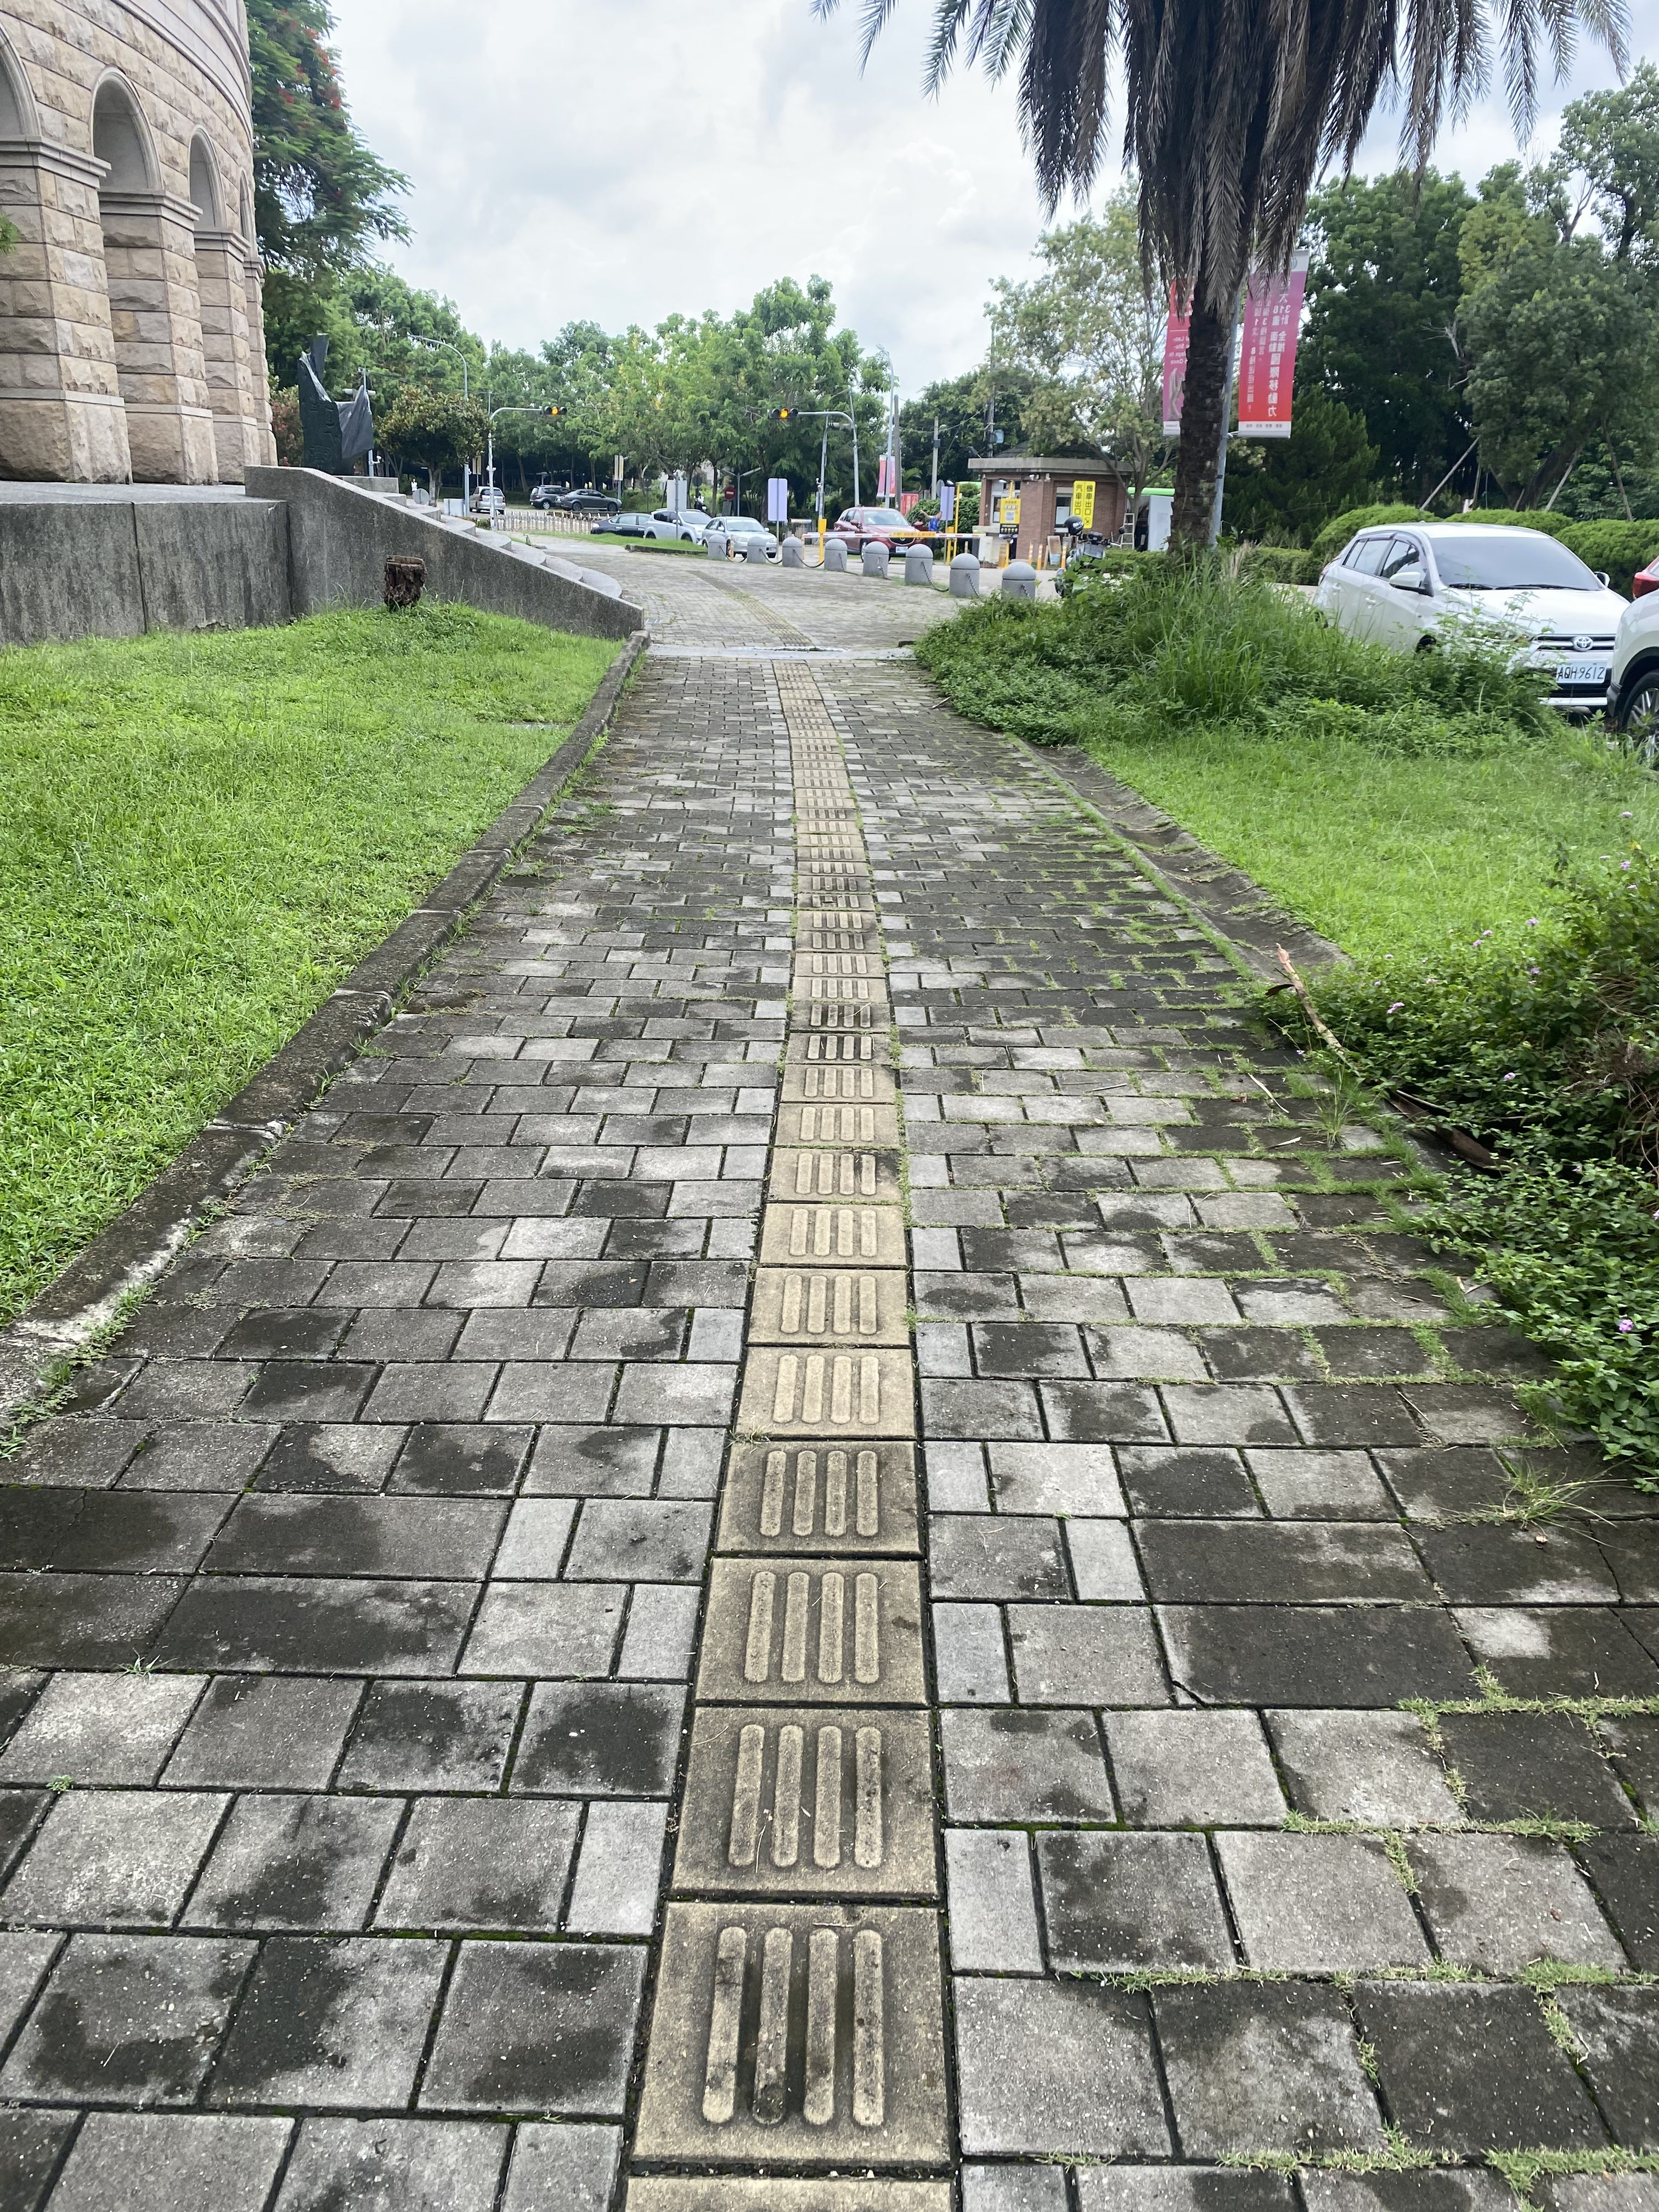0: (10, 798, 1659, 2212)
sidewalk: (530, 517, 1155, 1460)
